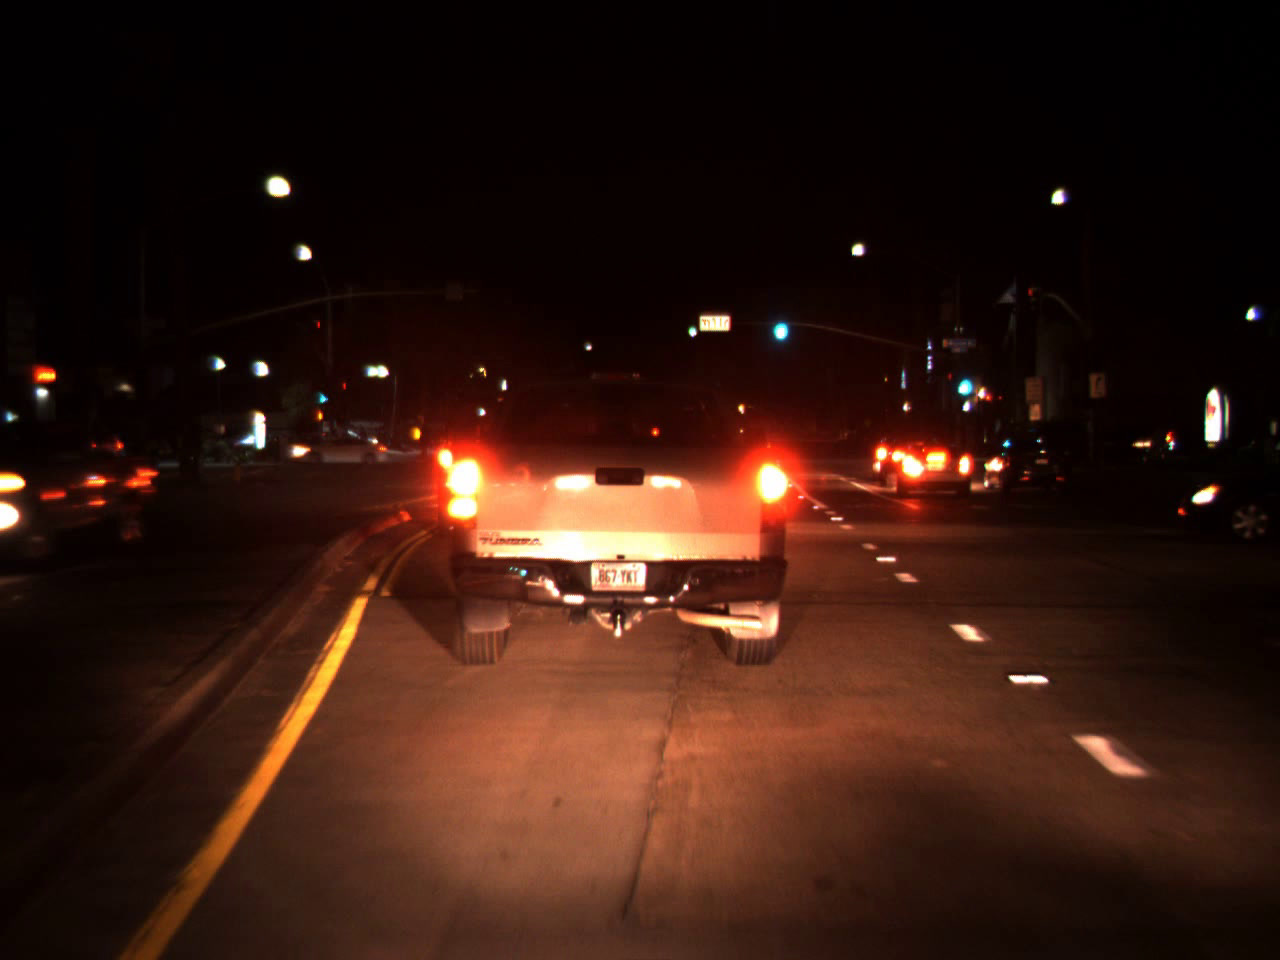go: (767, 301, 790, 346), (953, 361, 974, 400), (685, 316, 697, 340), (317, 387, 327, 405)
